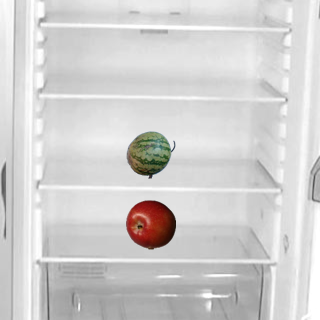Apple Braeburn: (125, 199, 175, 249)
Watermelon: (125, 129, 175, 179)
